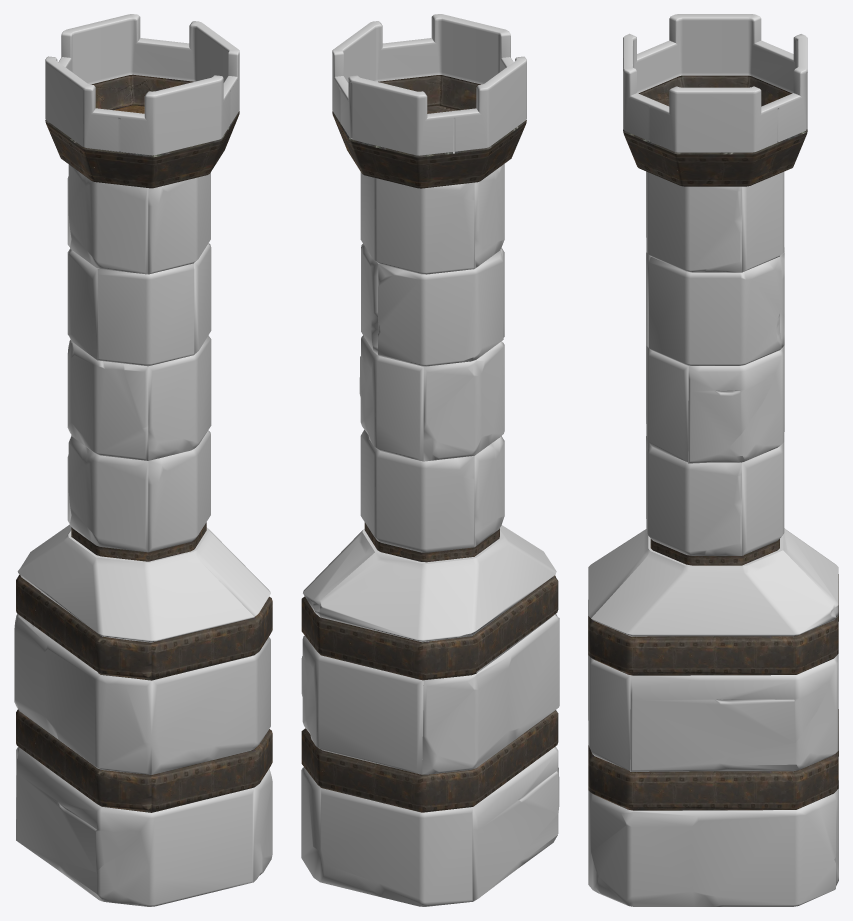
The picture shows the model from 3 angles, left to right: view 1: azimuth 30°, elevation 25°; view 2: azimuth 150°, elevation 25°; view 3: azimuth 270°, elevation 25°; orthographic projection. The views are drawn at different scales.
Parts seen in each view (by area): view 1: SM_Greathall_Pillar_B_01_LOD0; view 2: SM_Greathall_Pillar_B_01_LOD0; view 3: SM_Greathall_Pillar_B_01_LOD0.
Boxes of the visible parts, box(x1,y1,x2,y2) form: SM_Greathall_Pillar_B_01_LOD0: box(14, 14, 272, 906); SM_Greathall_Pillar_B_01_LOD0: box(301, 14, 559, 906); SM_Greathall_Pillar_B_01_LOD0: box(588, 14, 838, 906).
Size of the model in its own units: 3.33 by 14.35 by 4.01.
2 materials, 1 textured.
